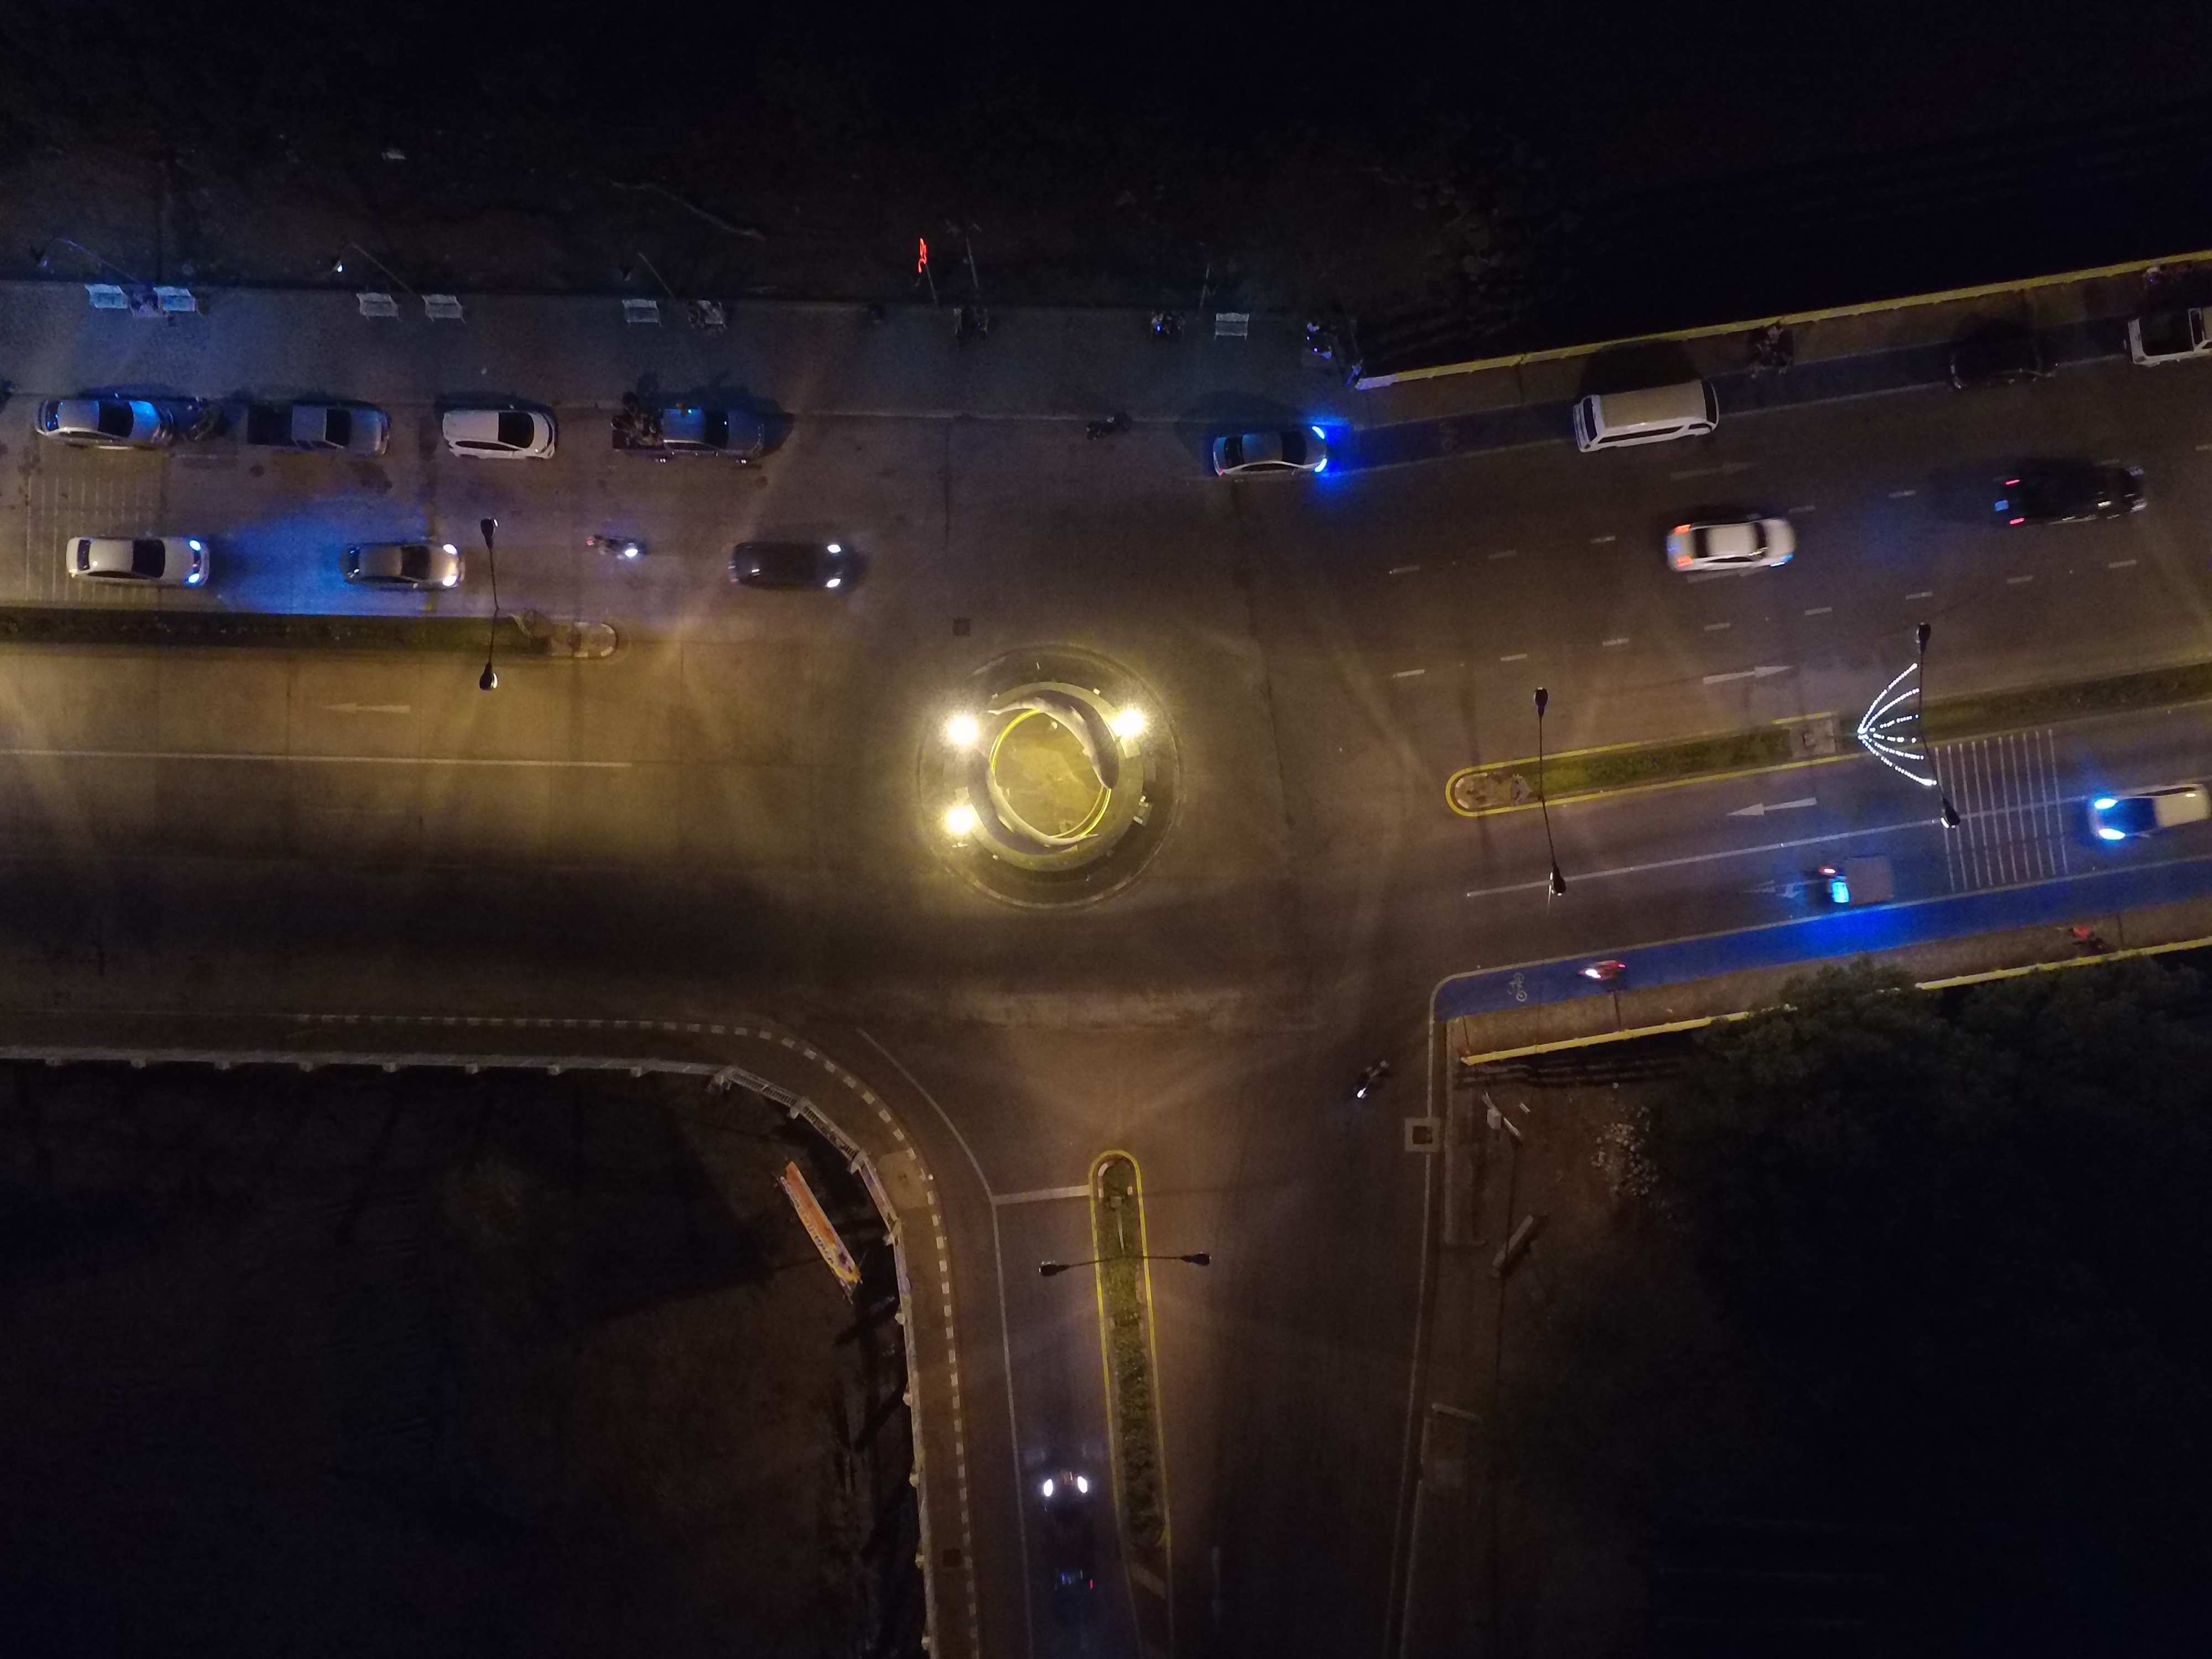car: (1024, 1453, 1120, 1636), (1991, 448, 2153, 535), (714, 526, 876, 613), (1181, 411, 1343, 497), (1648, 500, 1810, 586), (1921, 321, 2083, 406), (1568, 373, 1730, 458), (627, 397, 789, 483), (421, 399, 583, 484), (233, 392, 395, 477), (308, 526, 470, 612), (68, 511, 230, 596), (21, 382, 183, 467)
